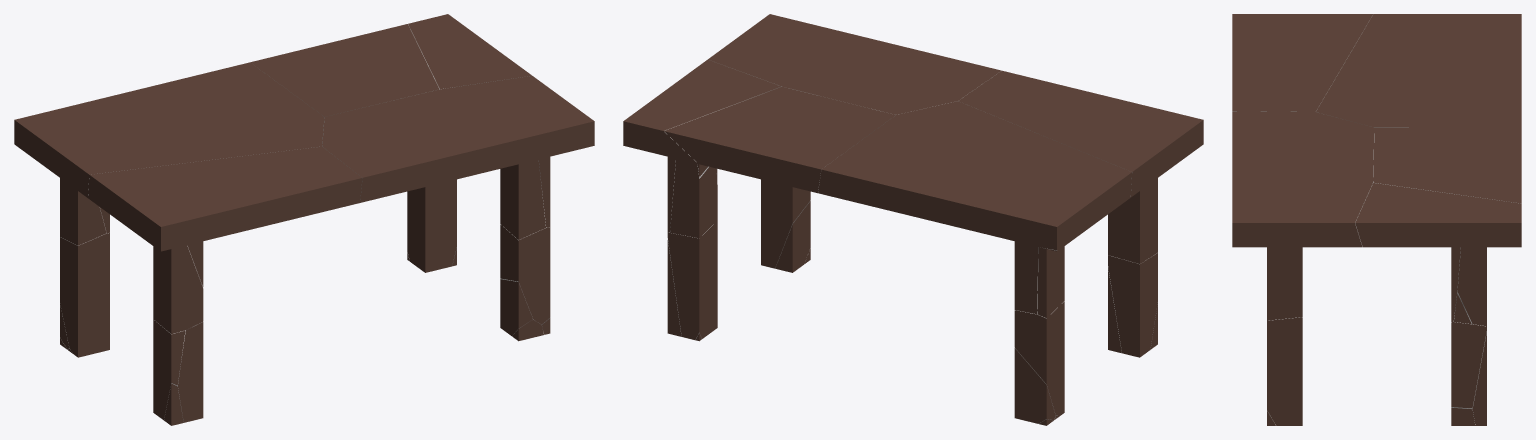
File: Table_Library.fbx
The picture shows the model from 3 angles, left to right: view 1: azimuth 30°, elevation 25°; view 2: azimuth 150°, elevation 25°; view 3: azimuth 270°, elevation 25°; orthographic projection.
Parts seen in each view (by area): view 1: pCube8_cell.004, pCube8_cell.001, pCube8_cell, pCube8_cell.003, pCube8.001_cell.001, pCube8_cell.005, pCube8.004_cell, pCube8.003_cell.005, pCube8.002_cell.004, pCube8.002_cell.005, pCube8.003_cell.001, pCube8.003_cell.003 (+4 smaller); view 2: pCube8_cell.004, pCube8_cell.001, pCube8_cell.003, pCube8_cell, pCube8_cell.005, pCube8.004_cell, pCube8.003_cell.003, pCube8.001_cell.001, pCube8.003_cell.005, pCube8.004_cell.002, pCube8.002_cell.004, pCube8.001_cell.004 (+5 smaller); view 3: pCube8_cell.004, pCube8_cell.001, pCube8_cell, pCube8_cell.003, pCube8_cell.005, pCube8.002_cell.004, pCube8.002_cell.006, pCube8.004_cell, pCube8.004_cell.006, pCube8.004_cell.004, pCube8.004_cell.007, pCube8.004_cell.001 (+1 smaller).
Part boxes in pixels (x1,y1,x2,y2): pCube8_cell.004: (14, 62, 324, 197); pCube8_cell.001: (322, 76, 594, 202); pCube8_cell: (88, 146, 362, 251); pCube8_cell.003: (250, 24, 439, 117); pCube8.001_cell.001: (60, 233, 109, 357); pCube8_cell.005: (408, 14, 531, 89); pCube8.004_cell: (407, 179, 456, 272); pCube8.003_cell.005: (153, 245, 203, 333); pCube8.002_cell.004: (500, 224, 550, 330); pCube8.002_cell.005: (500, 159, 545, 239); pCube8.003_cell.001: (178, 322, 203, 422); pCube8.003_cell.003: (153, 319, 185, 420); pCube8_cell.004: (818, 101, 1131, 250); pCube8_cell.001: (708, 14, 1001, 114); pCube8_cell.003: (664, 86, 895, 193); pCube8_cell: (958, 70, 1203, 197); pCube8_cell.005: (623, 59, 781, 163); pCube8.004_cell: (667, 221, 717, 339); pCube8.003_cell.003: (1108, 253, 1157, 357); pCube8.001_cell.001: (1014, 301, 1064, 416); pCube8.003_cell.005: (1108, 178, 1157, 263); pCube8.004_cell.002: (670, 158, 717, 238); pCube8.002_cell.004: (761, 179, 810, 268); pCube8.001_cell.004: (1014, 348, 1055, 423); pCube8_cell.004: (1316, 14, 1521, 127); pCube8_cell.001: (1232, 111, 1374, 247); pCube8_cell: (1232, 14, 1373, 111); pCube8_cell.003: (1373, 127, 1521, 203); pCube8_cell.005: (1355, 183, 1521, 247); pCube8.002_cell.004: (1267, 317, 1302, 425); pCube8.002_cell.006: (1267, 247, 1302, 320); pCube8.004_cell: (1451, 322, 1486, 422); pCube8.004_cell.006: (1457, 247, 1486, 326); pCube8.004_cell.004: (1472, 333, 1486, 425); pCube8.004_cell.007: (1451, 247, 1460, 321); pCube8.004_cell.001: (1451, 407, 1475, 425).
Bounding box in the file's own units: 4.83 × 2.33 × 2.83.
